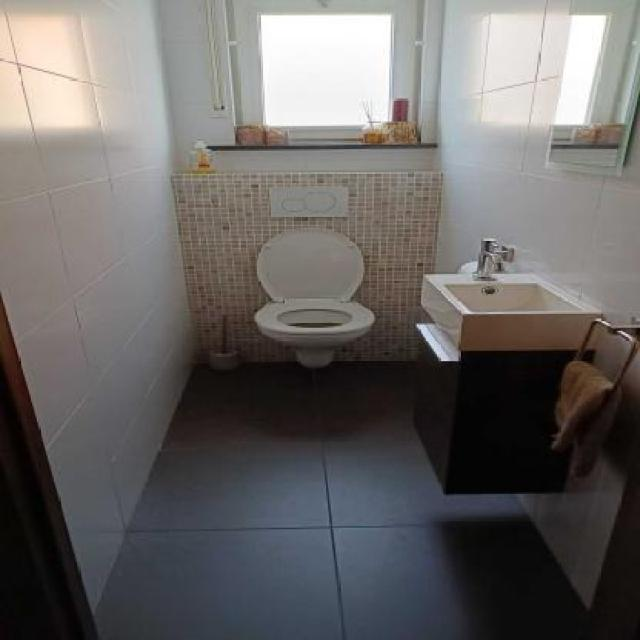floor: (95, 356, 622, 640)
